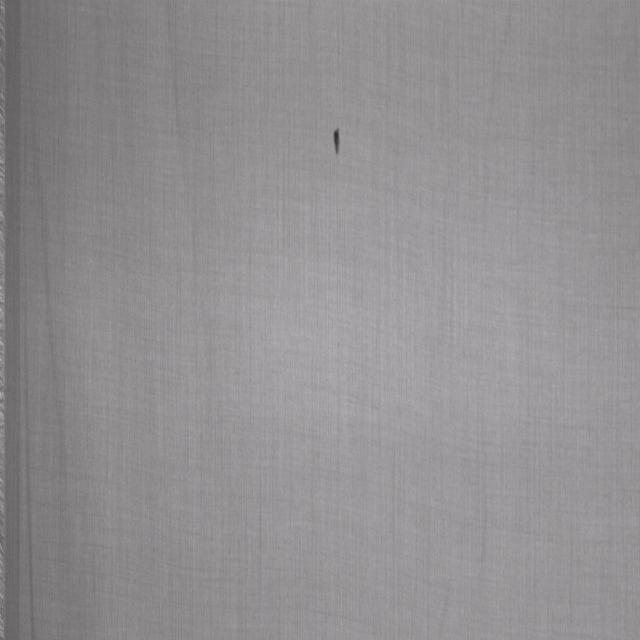dirty: (333, 128, 340, 152)
